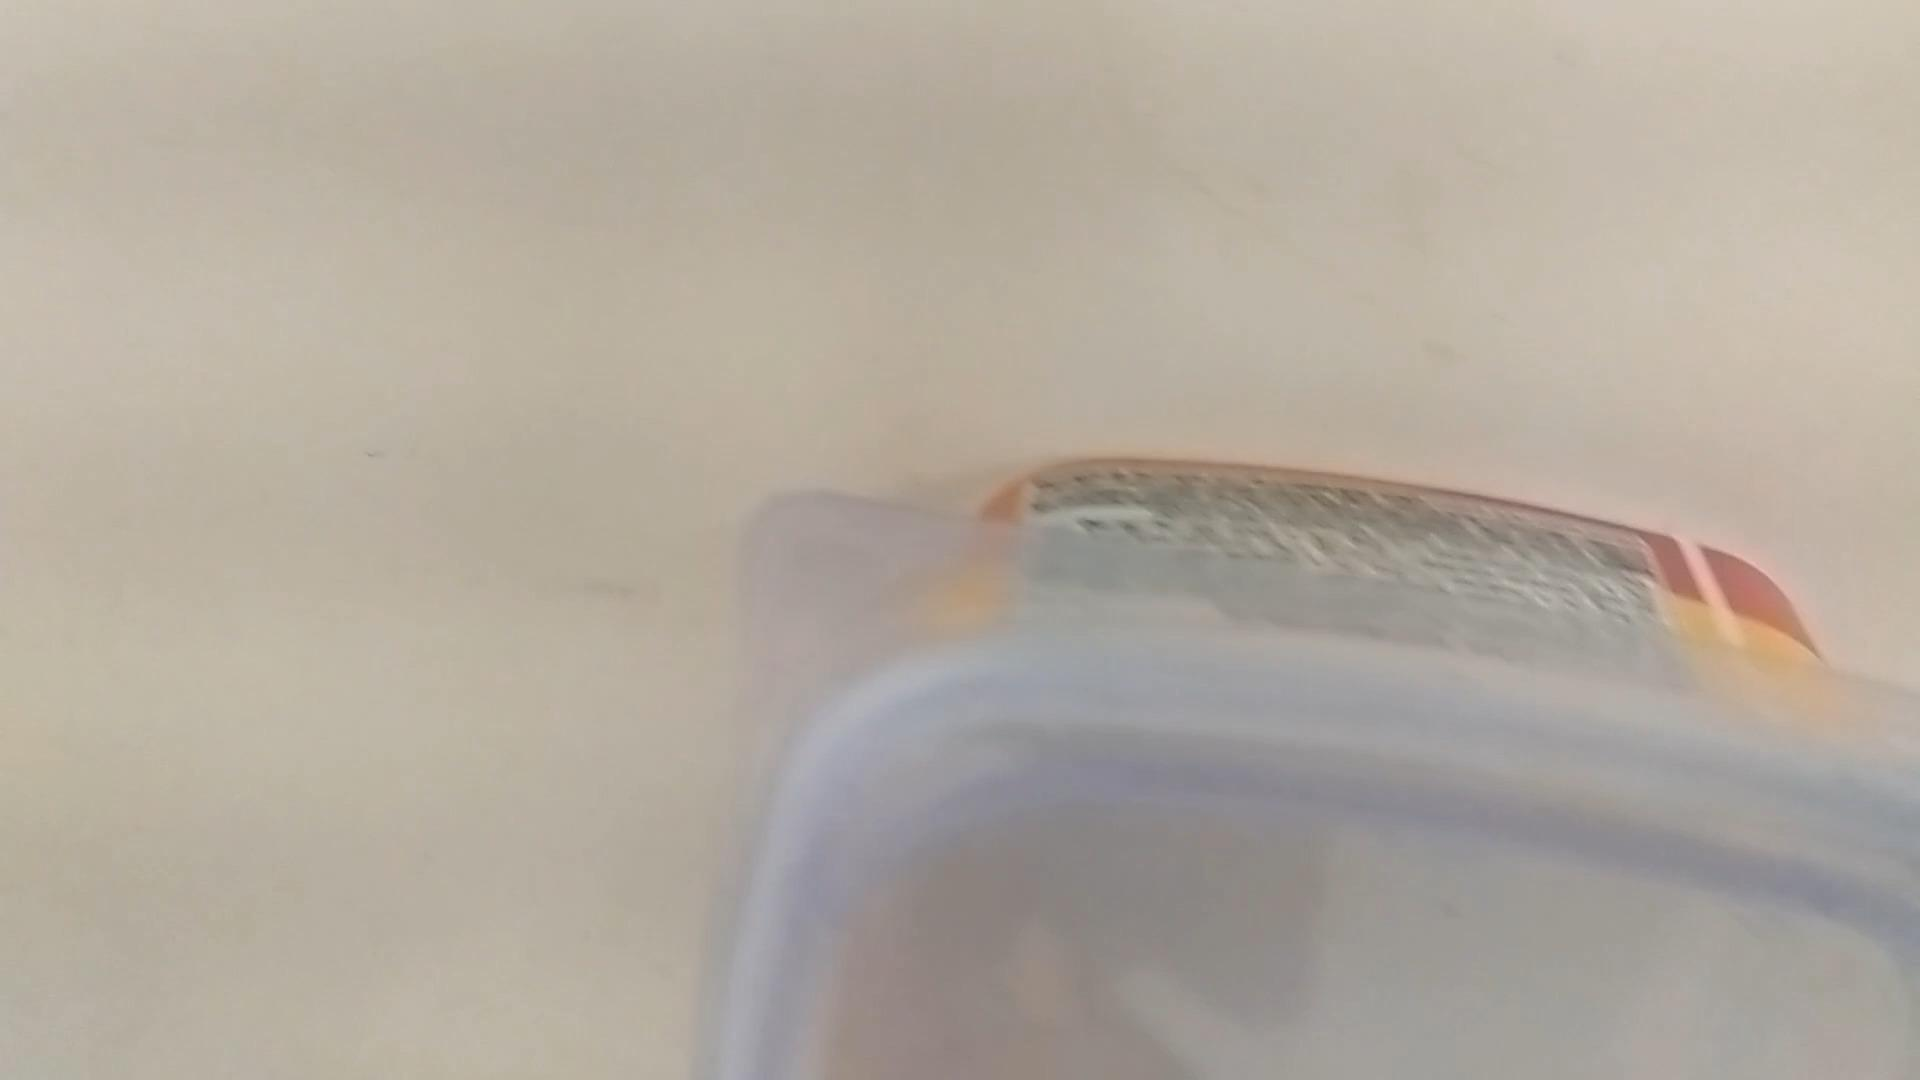butter: (687, 465, 1920, 1069)
